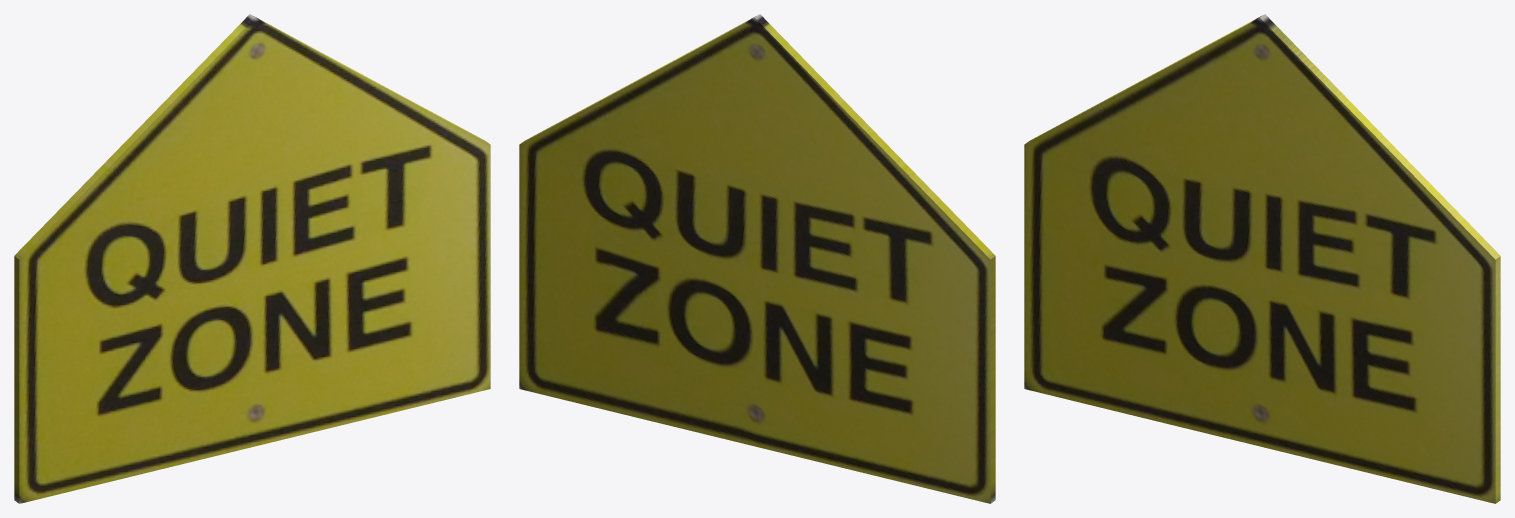
The model's file is quiet_zone_sign.fbx.
3 views of the same model, side by side, from view 1: azimuth 30°, elevation 25°; view 2: azimuth 150°, elevation 25°; view 3: azimuth 330°, elevation 25° (orthographic).
Visible parts, largest first — view 1: pCube1; view 2: pCube1; view 3: pCube1.
Part boxes in pixels (bbox=[...]): pCube1: bbox=[14, 14, 490, 503]; pCube1: bbox=[519, 14, 995, 503]; pCube1: bbox=[1024, 14, 1500, 503].
Bounding box in the file's own units: 1 × 0.8689 × 0.0192.
Materials: 1 (1 with a texture image).
